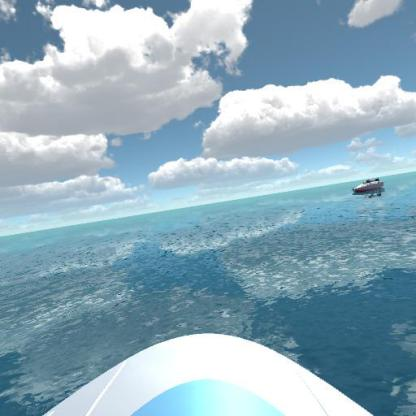usv3: (351, 175, 390, 197)
